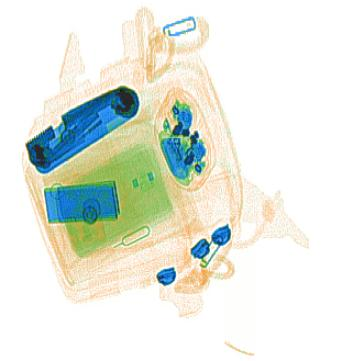knife: (27, 84, 140, 175)
